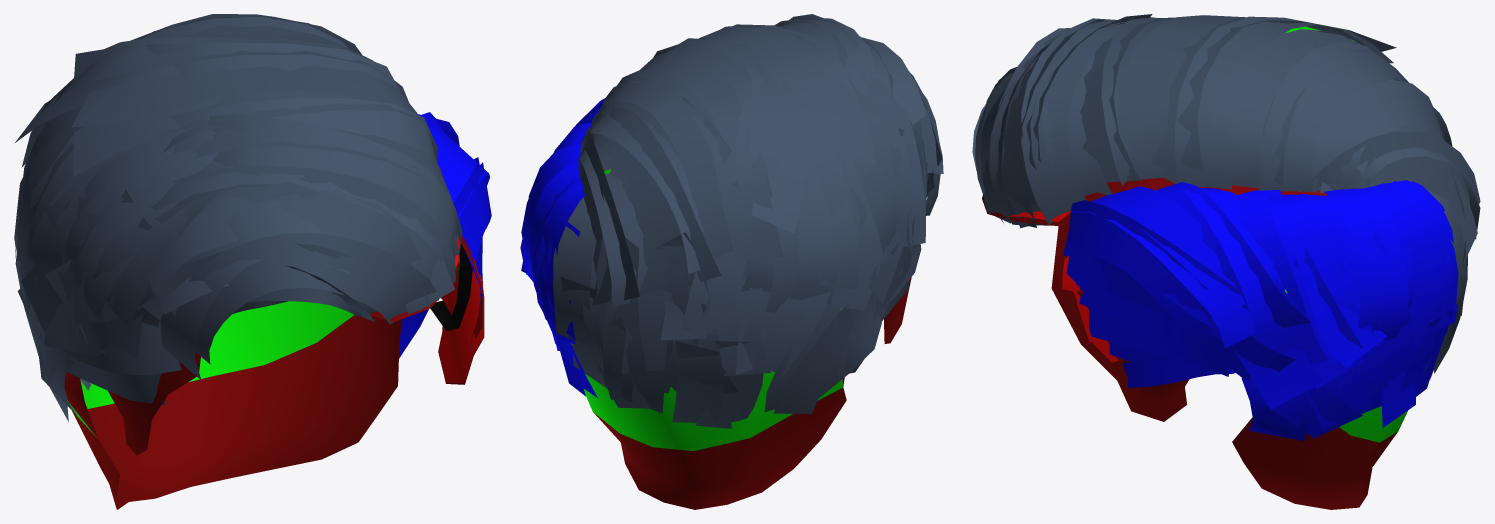
File: hair_002.obj
The picture shows the model from 3 angles, left to right: view 1: azimuth 30°, elevation 25°; view 2: azimuth 150°, elevation 25°; view 3: azimuth 270°, elevation 25°; orthographic projection. The views are drawn at different scales.
Bounding box in the file's own units: 18.61 × 20.96 × 21.17.
